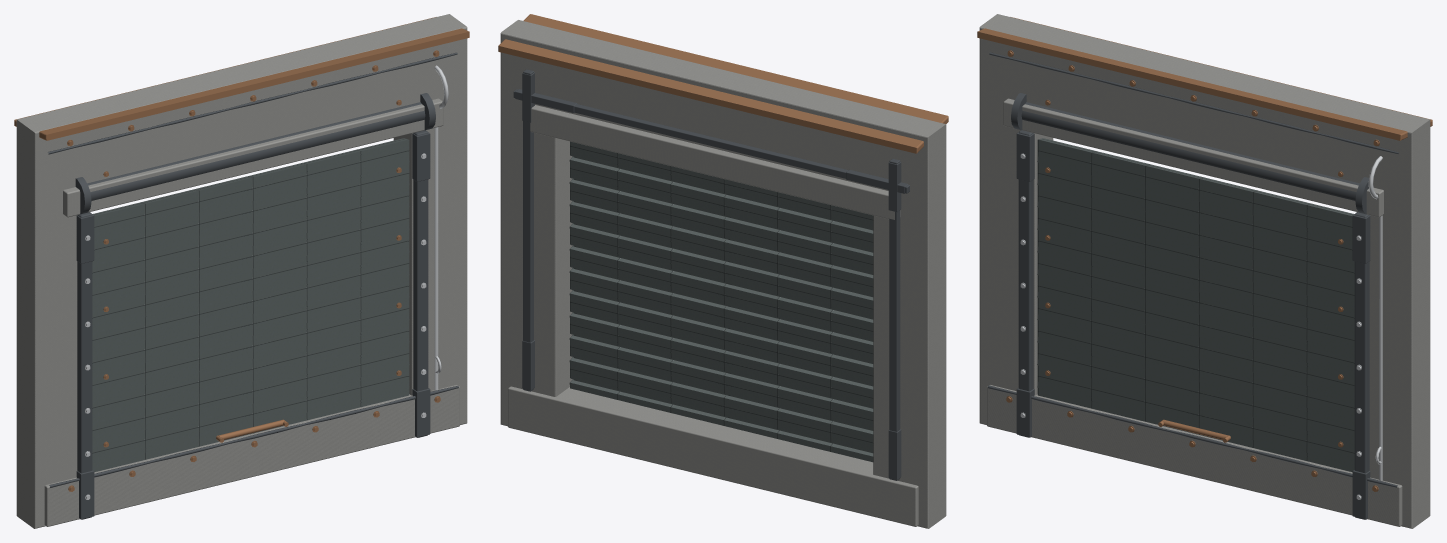
Rendered from fps-survival-forest-outpost-wall-bay-shutter-b4058c18__32610.glb.
3 views of the same model, side by side, from view 1: azimuth 30°, elevation 25°; view 2: azimuth 150°, elevation 25°; view 3: azimuth 330°, elevation 25° (orthographic).
Parts seen in each view (by area): view 1: wall-bay-shutter, shutter/panel; view 2: wall-bay-shutter, shutter/panel; view 3: wall-bay-shutter, shutter/panel.
Boxes of the visible parts, x1=… form: wall-bay-shutter: x1=14, y1=14, x2=469, y2=528; shutter/panel: x1=92, y1=138, x2=409, y2=472; wall-bay-shutter: x1=498, y1=14, x2=948, y2=528; shutter/panel: x1=569, y1=141, x2=873, y2=462; wall-bay-shutter: x1=977, y1=14, x2=1432, y2=528; shutter/panel: x1=1037, y1=138, x2=1354, y2=472.
Size of the model in its own units: 4.02 by 3.54 by 0.5899.
5 materials, 2 textured.
